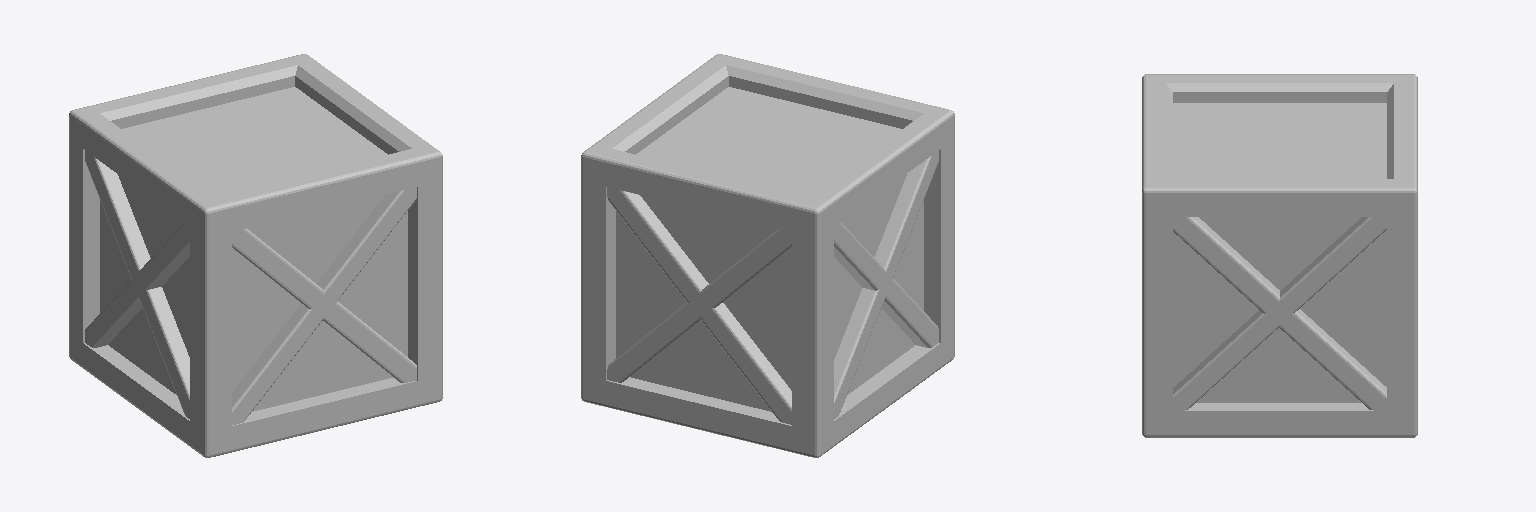
Rendered from crate.obj.
The picture shows the model from 3 angles: view 1: azimuth 30°, elevation 25°; view 2: azimuth 150°, elevation 25°; view 3: azimuth 270°, elevation 25°; orthographic projection.
Parts seen in each view (by area): view 1: crate_Cube.004; view 2: crate_Cube.004; view 3: crate_Cube.004.
Part boxes in pixels (x1,y1,x2,y2): crate_Cube.004: (69,54,442,457); crate_Cube.004: (581,54,954,457); crate_Cube.004: (1142,74,1417,437).
Bounding box in the file's own units: 2 × 2 × 2.